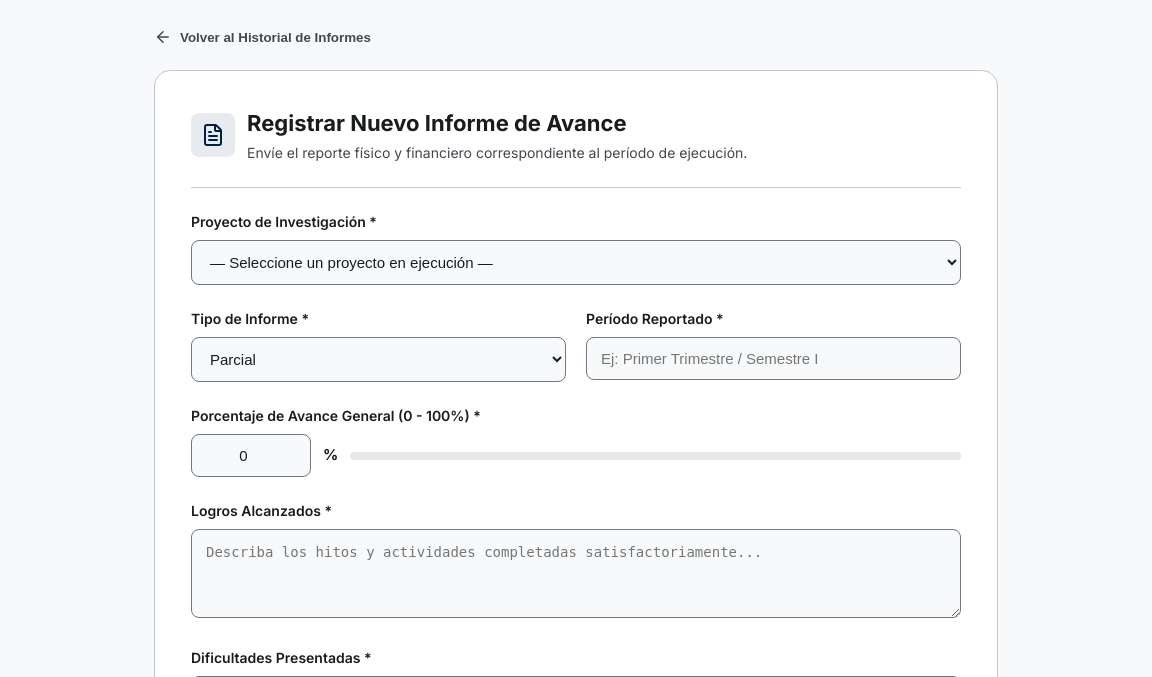
Test: NewProgressReport › clamps progress percentage > 100 to 100
Replace the text in the number field with "150": (251, 456) [191,434,311,477]
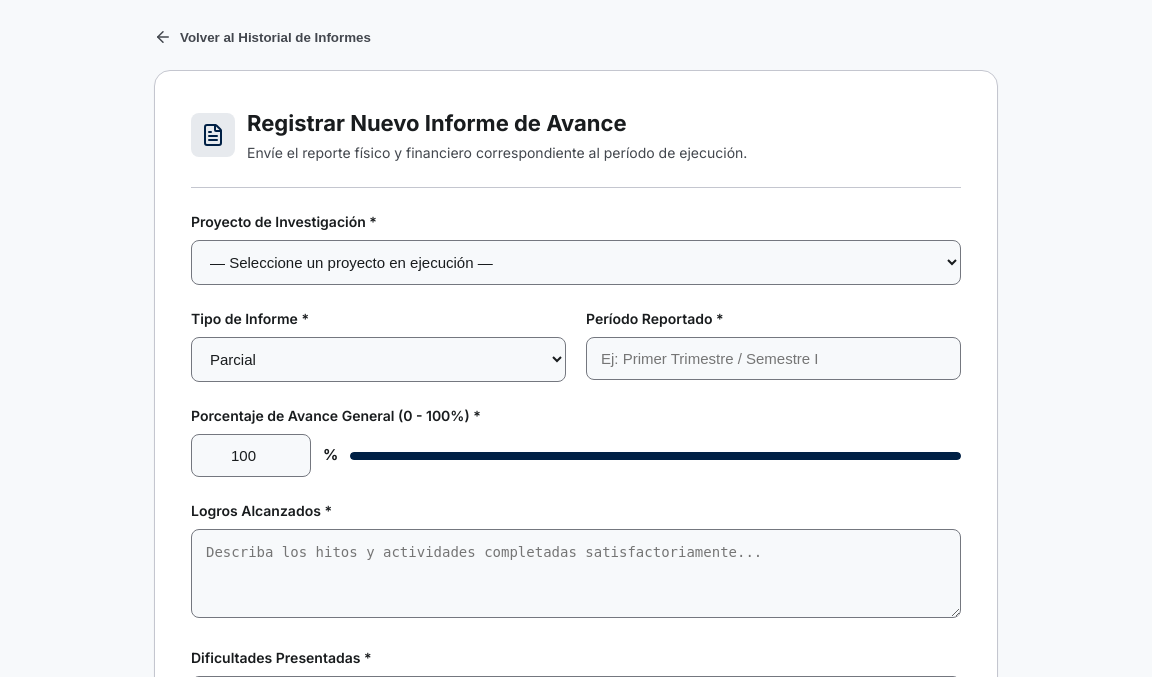
Now the number field holds "100", box [191,434,311,477]
